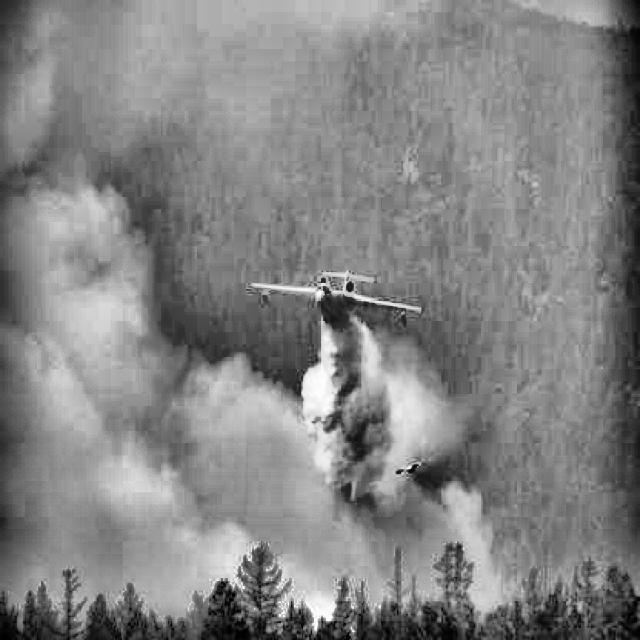Be200: (250, 270, 425, 328)
